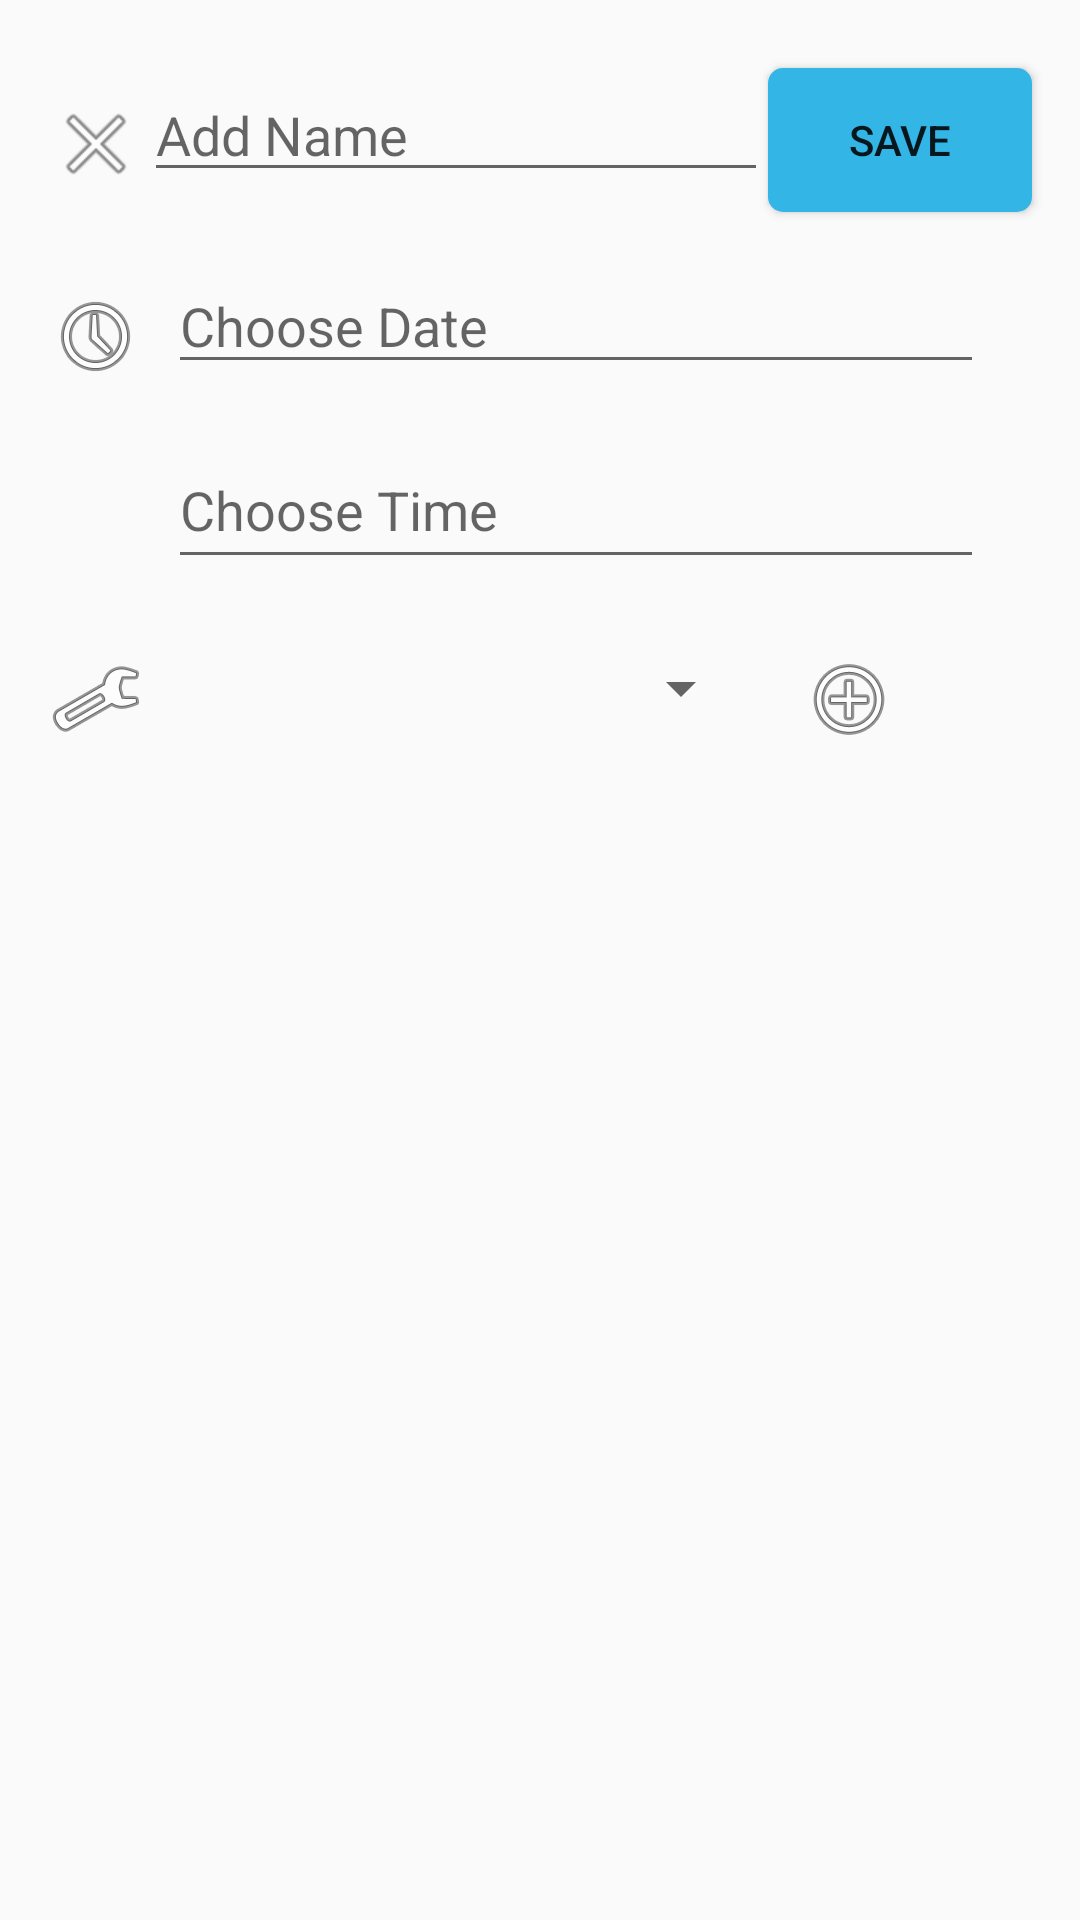

Icon bounding boxes for this 1080*1920 phone screenshot, format (x1, y1, x2, y2):
add: (813, 664, 885, 735)
close clear cancel: (66, 114, 126, 174)
preferences: (53, 666, 139, 732)
recent history: (61, 302, 130, 371)
